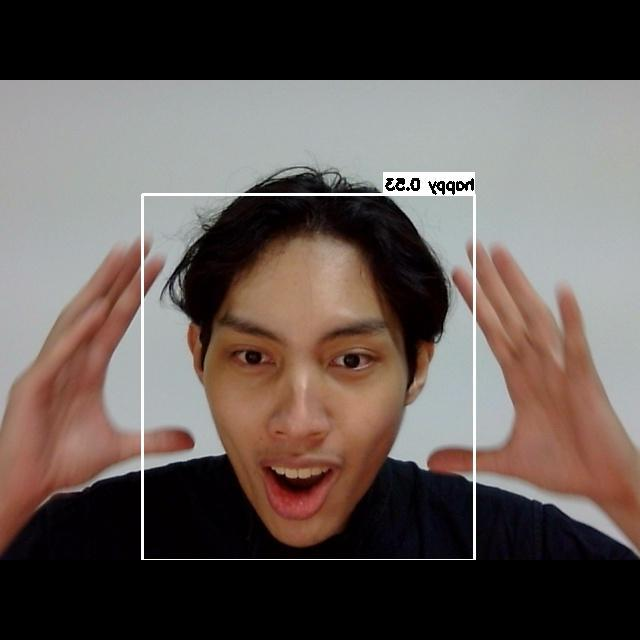Surprised: (191, 278, 436, 522)
